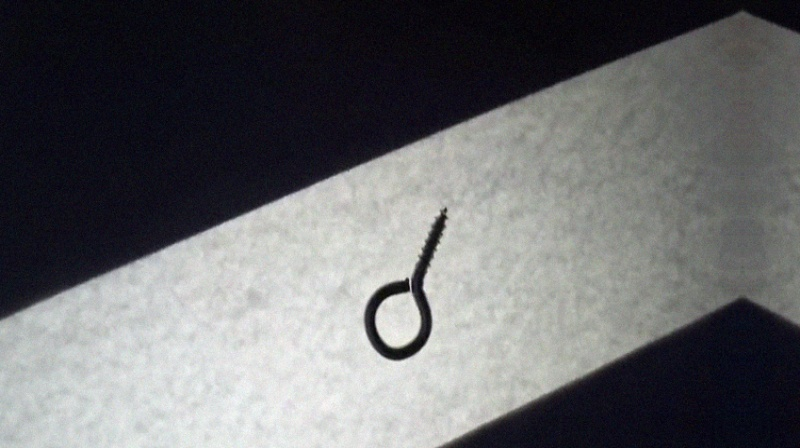O001: (359, 203, 452, 364)
